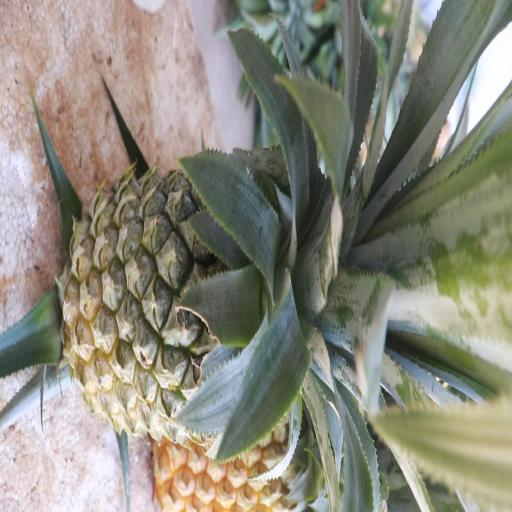------------------------------: (68, 166, 333, 436)
